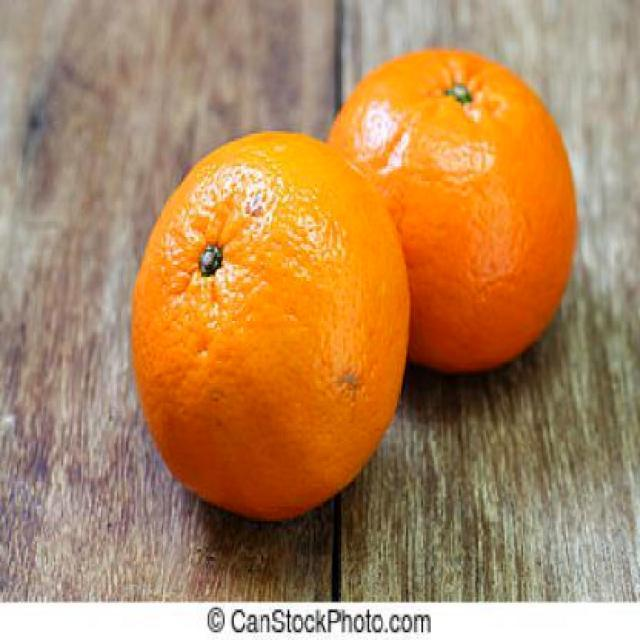Jeruk Sudah Matang: (134, 128, 408, 520), (319, 42, 579, 376)
